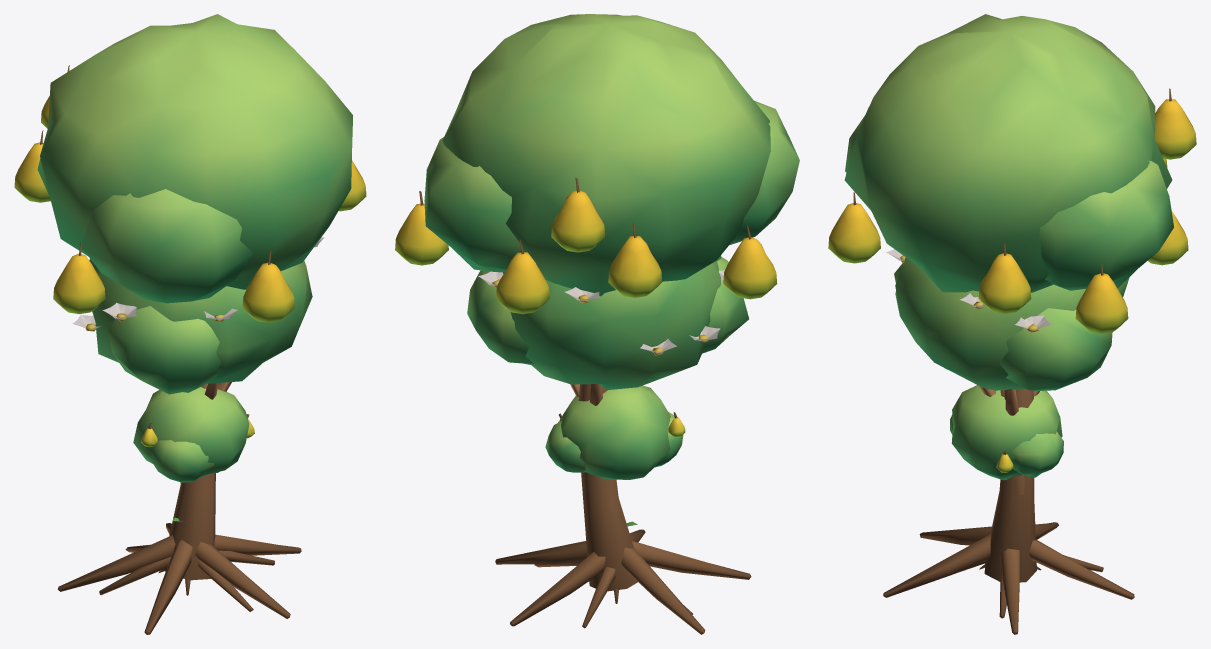
3 renders of one model, left to right at view 1: azimuth 30°, elevation 25°; view 2: azimuth 150°, elevation 25°; view 3: azimuth 270°, elevation 25°, orthographic. The views are drawn at different scales.
Visible parts, largest first — view 1: stage3, stage2, stage1; view 2: stage3, stage2, stage1; view 3: stage3, stage2, stage1.
Boxes of the visible parts, x1,y1,x2,y2 form: stage3: (14,14,366,634); stage2: (72,237,324,611); stage1: (133,387,254,595); stage3: (395,14,799,634); stage2: (467,255,748,628); stage1: (545,385,685,603); stage3: (828,14,1196,634); stage2: (885,249,1129,618); stage1: (950,385,1063,570).
Size of the model in its own units: 1.2 by 2.01 by 1.21.
